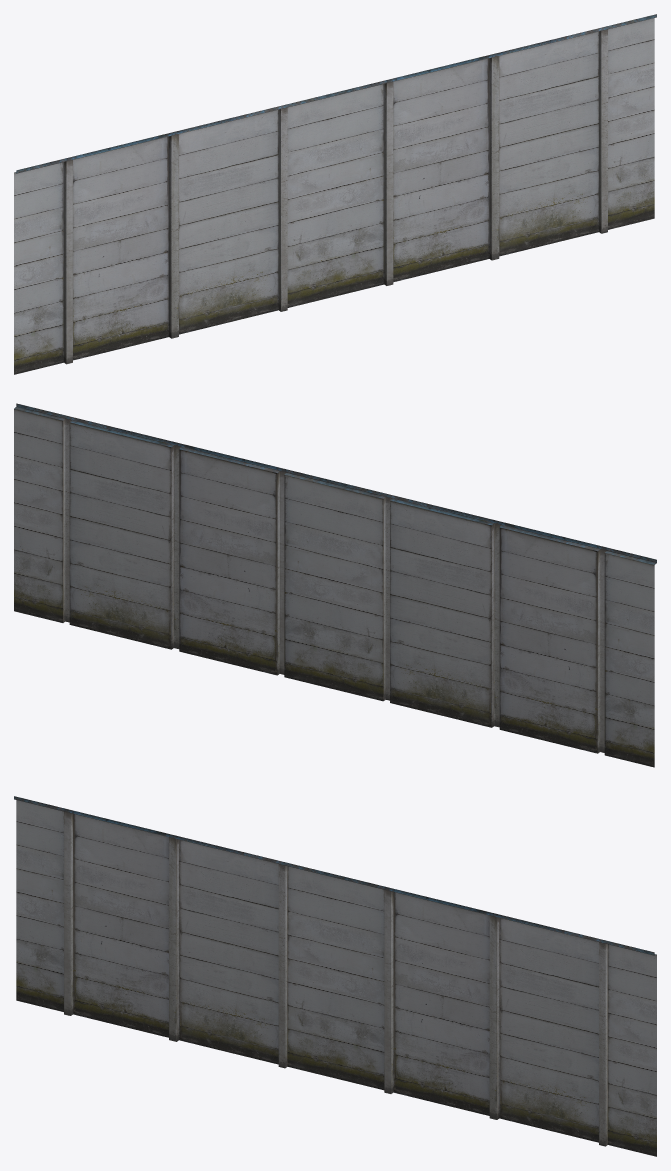
File: Outer_Fence_Straight.fbx
3 views of the same model, one above another, from view 1: azimuth 30°, elevation 25°; view 2: azimuth 150°, elevation 25°; view 3: azimuth 330°, elevation 25° (orthographic).
Parts seen in each view (by area): view 1: Outer_Fence_Straight; view 2: Outer_Fence_Straight; view 3: Outer_Fence_Straight.
Part boxes in pixels (<box>): Outer_Fence_Straight: <box>14,14,656,374</box>; Outer_Fence_Straight: <box>14,403,656,767</box>; Outer_Fence_Straight: <box>14,796,656,1156</box>.
Bounding box in the file's own units: 20 × 6.15 × 0.1251.
